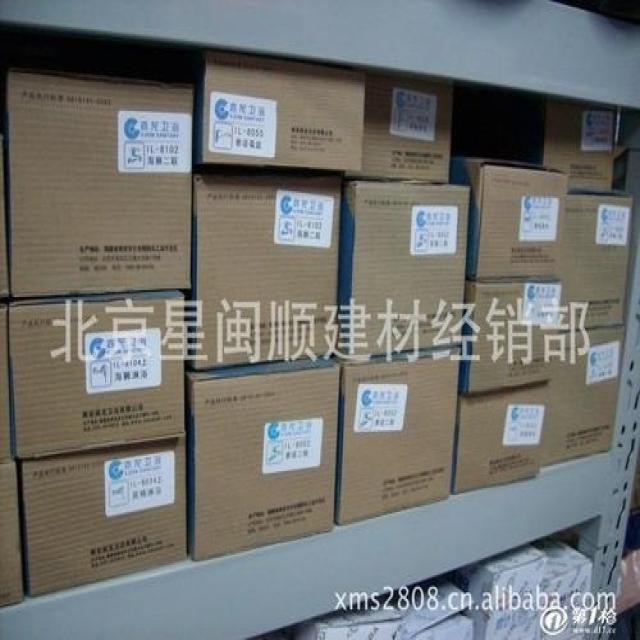box: (6, 72, 195, 295), (184, 357, 342, 561), (10, 283, 186, 461), (187, 174, 342, 369), (22, 437, 189, 599), (337, 177, 470, 362), (334, 348, 461, 529), (192, 56, 366, 174), (452, 159, 568, 282), (457, 280, 564, 398), (540, 324, 627, 468), (452, 379, 550, 495), (357, 75, 454, 188), (556, 193, 634, 329), (539, 101, 620, 195), (451, 543, 548, 609), (540, 539, 594, 640), (301, 596, 401, 638), (396, 585, 472, 640), (0, 461, 24, 608), (467, 599, 541, 640), (0, 73, 10, 307), (0, 305, 12, 464)
